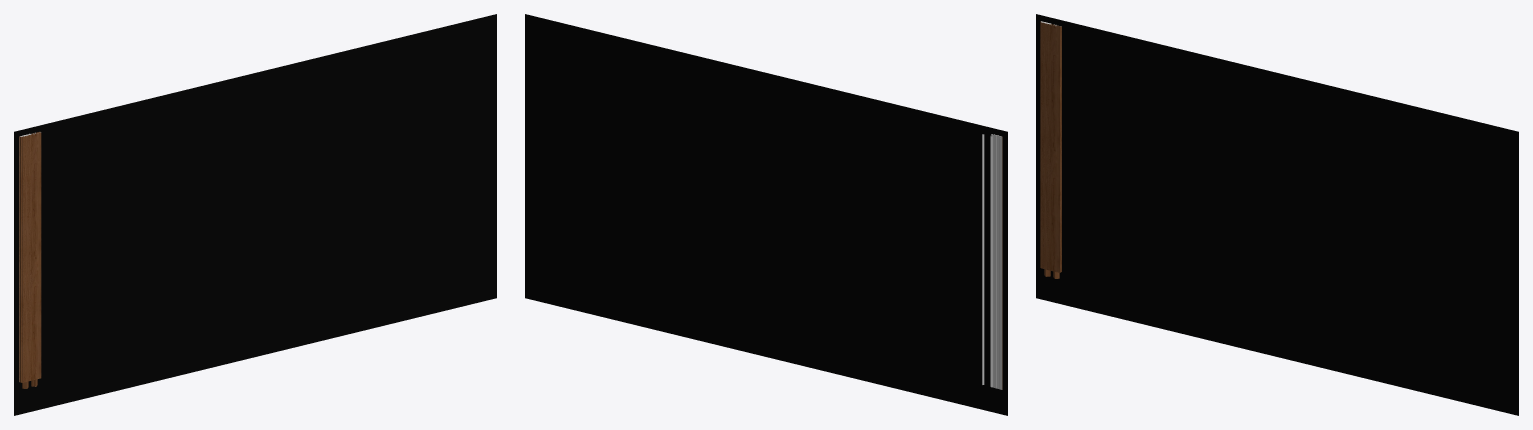
Rendered from LamasVerticalesInterior-transformed.glb.
The picture shows the model from 3 angles, left to right: view 1: azimuth 30°, elevation 25°; view 2: azimuth 150°, elevation 25°; view 3: azimuth 330°, elevation 25°; orthographic projection.
Parts seen in each view (by area): view 1: Fondo, matriz2_j, matriz2_i, matriz2_l, matriz2_n, matriz2_k; view 2: Fondo, matrix1_4, matrix1_2, matrix1_7, matrix1_5, matrix1_6; view 3: Fondo, matriz2_j, matriz2_l, matriz2_i, matriz2_n, matriz2_k.
Part boxes in pixels (left/top/right/bottom): Fondo: left=14, top=14, right=496, bottom=415; matriz2_j: left=22, top=132, right=41, bottom=379; matriz2_i: left=22, top=135, right=31, bottom=382; matriz2_l: left=22, top=133, right=36, bottom=382; matriz2_n: left=22, top=133, right=34, bottom=380; matriz2_k: left=22, top=137, right=26, bottom=382; Fondo: left=525, top=14, right=1007, bottom=415; matrix1_4: left=982, top=134, right=1000, bottom=389; matrix1_2: left=991, top=134, right=1002, bottom=389; matrix1_7: left=994, top=135, right=1000, bottom=389; matrix1_5: left=1000, top=136, right=1002, bottom=389; matrix1_6: left=994, top=135, right=998, bottom=388; Fondo: left=1036, top=14, right=1518, bottom=415; matriz2_j: left=1041, top=24, right=1061, bottom=272; matriz2_l: left=1041, top=23, right=1054, bottom=271; matriz2_i: left=1041, top=22, right=1049, bottom=270; matriz2_n: left=1041, top=23, right=1054, bottom=268; matriz2_k: left=1041, top=23, right=1044, bottom=268.
Size of the model in its own units: 7.19 by 4.04 by 0.0607.
3 materials, 1 textured.
